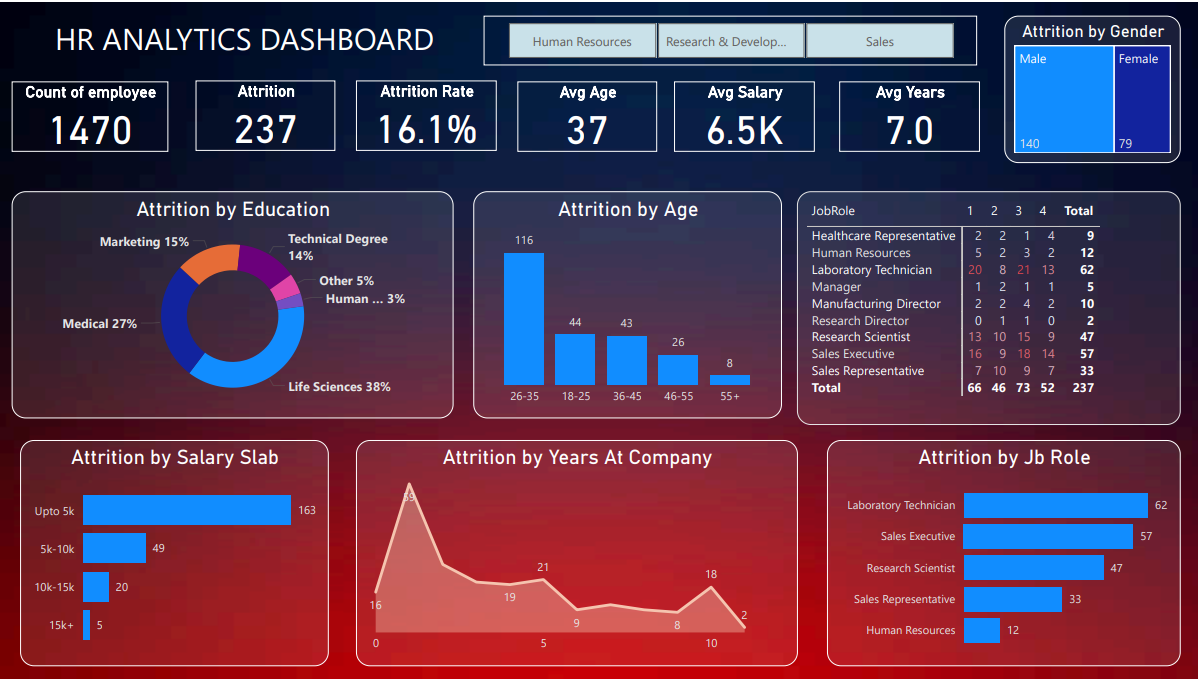

This screenshot's page, from the dashboard's own definition file:
{"tool":"powerbi","page":{"name":"Page 1","canvas":[1280,720],"ordinal":0},"visuals":[{"type":"card","title":"Count of employee","fields":{"Values":["Count(HR_Analytics.EmpID)"]},"box":[14,84,167,75],"z":0},{"type":"card","title":"Attrition","fields":{"Values":["Sum(HR_Analytics.AttritionCount)"]},"box":[210,83,149,75],"z":1000},{"type":"card","title":"Attrition Rate","fields":{"Values":["HR_Analytics.AttritionRate"]},"box":[381,83,150,75],"z":2000},{"type":"card","title":"Avg Age","fields":{"Values":["Avg(HR_Analytics.Age)"]},"box":[553,84,149,75],"z":3000},{"type":"card","title":"Avg Years","fields":{"Values":["Avg(HR_Analytics.YearsAtCompany)"]},"box":[896.5,83.6,149.4,75.4],"z":4000},{"type":"card","title":"Avg Salary","fields":{"Values":["Avg(HR_Analytics.MonthlyIncome)"]},"box":[720,84,150,75],"z":5000},{"type":"donutChart","title":"Attrition by Education","fields":{"Category":["HR_Analytics.EducationField","HR_Analytics.Education"],"Y":["Sum(HR_Analytics.AttritionCount)"]},"box":[13.7,201.5,471.5,241.3],"z":6000},{"type":"clusteredColumnChart","title":"Attrition by Age","fields":{"Category":["HR_Analytics.AgeGroup"],"Y":["Sum(HR_Analytics.AttritionCount)"]},"box":[505.8,201.5,329,241.3],"z":7000},{"type":"pivotTable","fields":{"Rows":["HR_Analytics.JobRole"],"Columns":["HR_Analytics.JobSatisfaction"],"Values":["Sum(HR_Analytics.AttritionCount)"]},"box":[851.2,201.5,408.5,248.1],"z":8000},{"type":"barChart","title":"Attrition by Salary Slab","fields":{"Category":["HR_Analytics.SalarySlab"],"Y":["Sum(HR_Analytics.AttritionCount)"]},"box":[23.3,466.1,329,241.3],"z":9000},{"type":"barChart","title":"Attrition by Jb Role","fields":{"Y":["Sum(HR_Analytics.AttritionCount)"],"Category":["HR_Analytics.JobRole"]},"box":[883.1,465.7,376.4,241.3],"z":10000},{"type":"areaChart","title":"Attrition by Years At Company","fields":{"Y":["Sum(HR_Analytics.AttritionCount)"],"Category":["HR_Analytics.YearsAtCompany"]},"box":[381.2,465.7,470.5,241.3],"z":11000},{"type":"treemap","title":"Attrition by Gender","fields":{"Group":["HR_Analytics.Gender"],"Values":["Sum(HR_Analytics.AttritionCount)"]},"box":[1071.9,13.7,187.8,157.6],"z":12000},{"type":"slicer","fields":{"Values":["HR_Analytics.Department"]},"box":[516.8,13.7,526.4,53.5],"z":13000},{"type":"textbox","box":[23,11,479,73],"z":14000}]}

Visuals, with their boxes in screenshot pixels (x1, y1, x2, y2), scaled from the page's 1280x720 canvas onto the 1198x679 screenshot:
"Count of employee" card: select_region(13, 79, 169, 150)
"Attrition" card: select_region(197, 78, 336, 149)
"Attrition Rate" card: select_region(357, 78, 497, 149)
"Avg Age" card: select_region(518, 79, 657, 150)
"Avg Years" card: select_region(839, 79, 979, 150)
"Avg Salary" card: select_region(674, 79, 814, 150)
"Attrition by Education" donutChart: select_region(13, 190, 454, 418)
"Attrition by Age" clusteredColumnChart: select_region(473, 190, 781, 418)
pivotTable - HR_Analytics.JobRole x HR_Analytics.JobSatisfaction: select_region(797, 190, 1179, 424)
"Attrition by Salary Slab" barChart: select_region(22, 440, 330, 667)
"Attrition by Jb Role" barChart: select_region(827, 439, 1179, 667)
"Attrition by Years At Company" areaChart: select_region(357, 439, 797, 667)
"Attrition by Gender" treemap: select_region(1003, 13, 1179, 162)
slicer - HR_Analytics.Department: select_region(484, 13, 976, 63)
textbox: select_region(22, 10, 470, 79)
